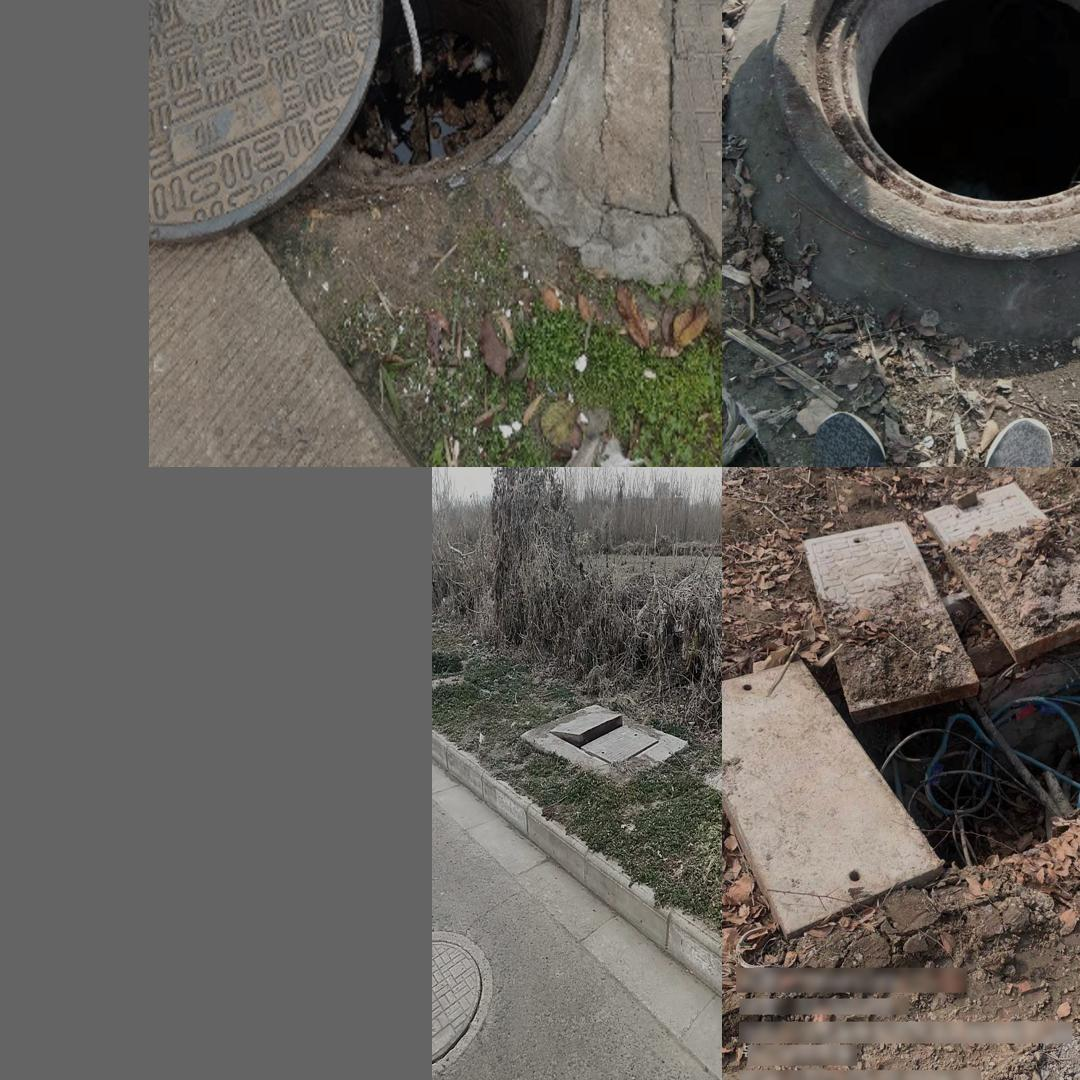good: (432, 933, 492, 1080)
uncovered: (732, 484, 1080, 939), (149, 0, 581, 246), (770, 0, 1080, 255), (552, 701, 660, 768)
